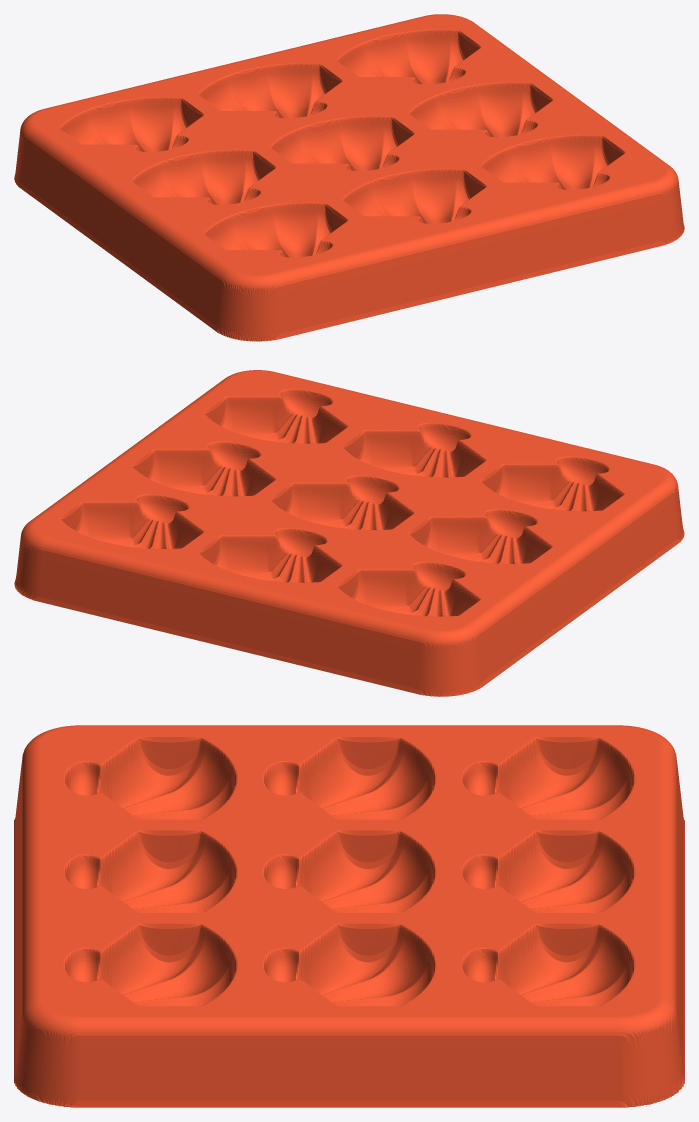
Rendered from mold.glb.
The picture shows the model from 3 angles, top to bottom: view 1: azimuth 30°, elevation 25°; view 2: azimuth 150°, elevation 25°; view 3: azimuth 270°, elevation 25°; orthographic projection. The views are drawn at different scales.
Visible parts, largest first — view 1: geometry_0; view 2: geometry_0; view 3: geometry_0.
Part boxes in pixels (x1=…): geometry_0: x1=14, y1=14, x2=684, y2=341; geometry_0: x1=14, y1=370, x2=684, y2=696; geometry_0: x1=14, y1=725, x2=684, y2=1107.
Bounding box in the file's own units: 0.1008 × 0.0121 × 0.0918.
